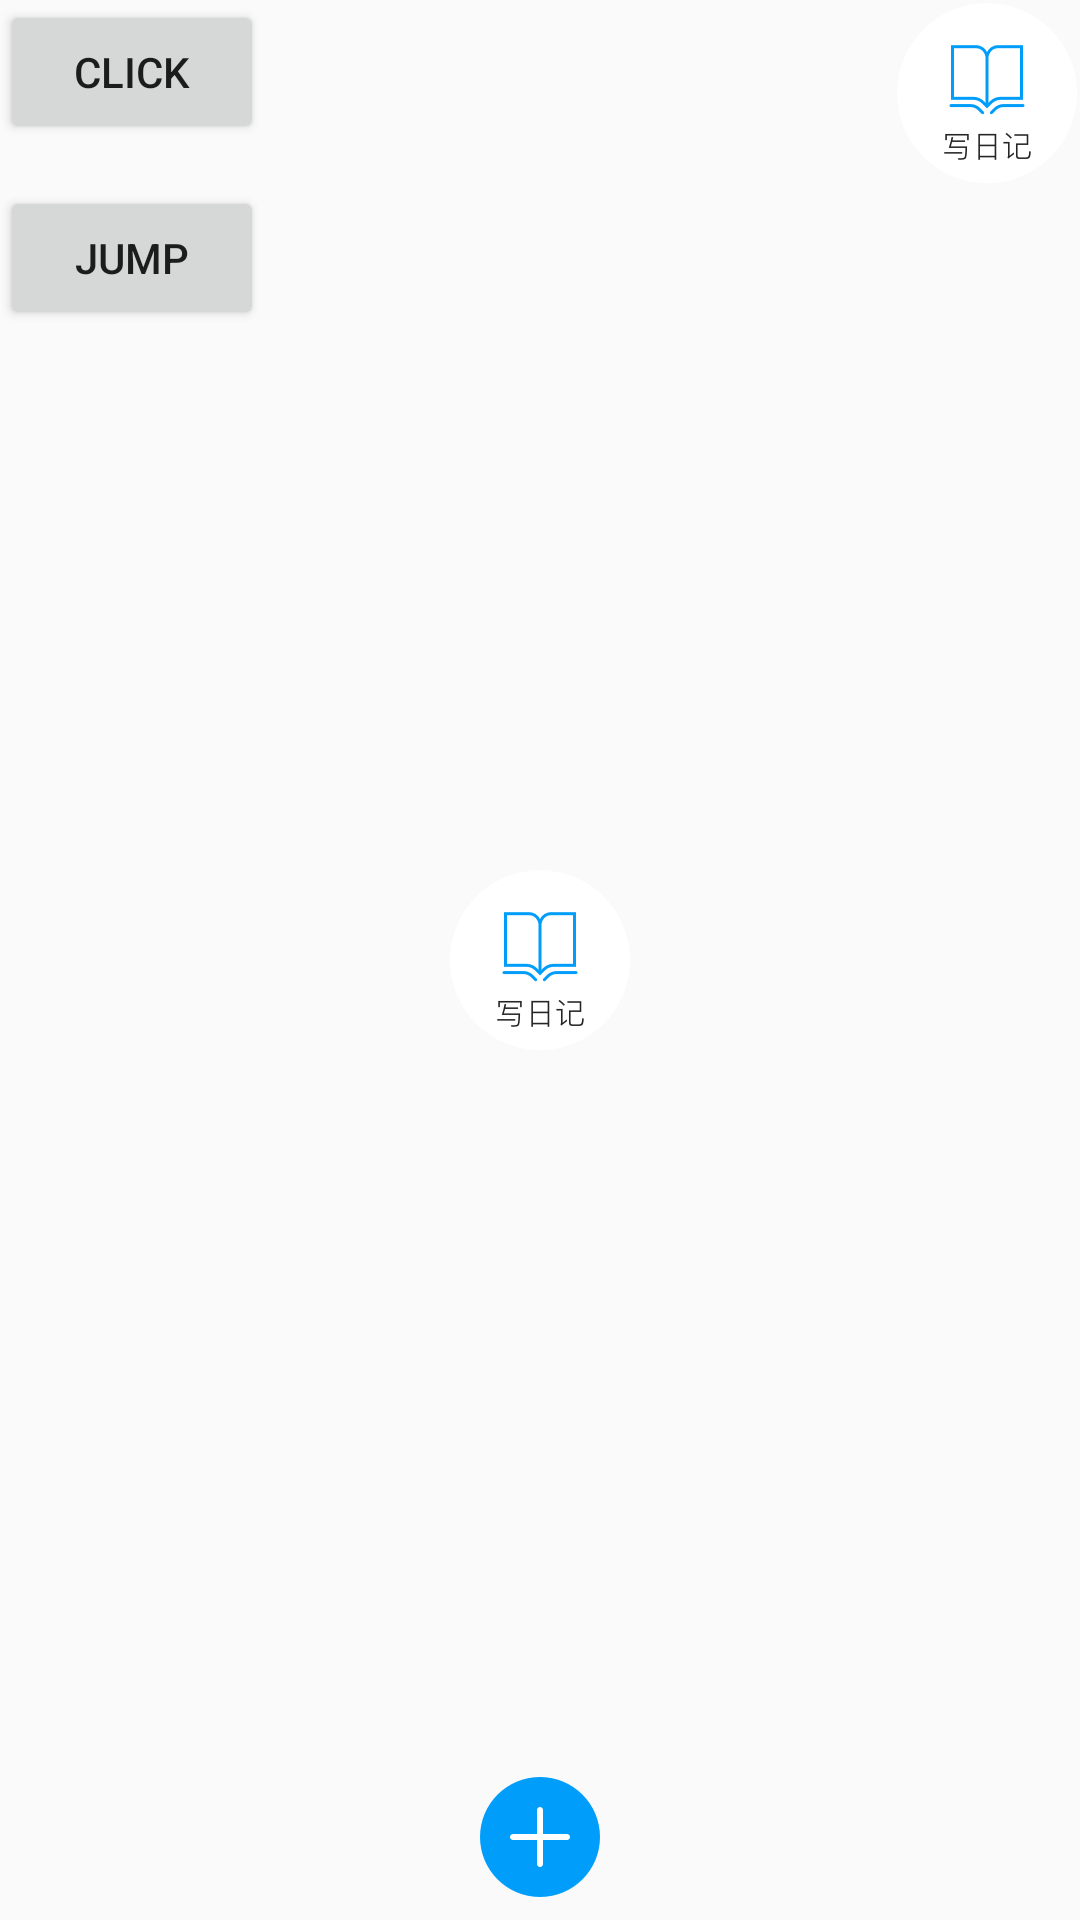

Named icons in this screenshot (1080px×1920px) and their centers, (x=x, y=y):
bottom bar add: (x=540, y=1837)
